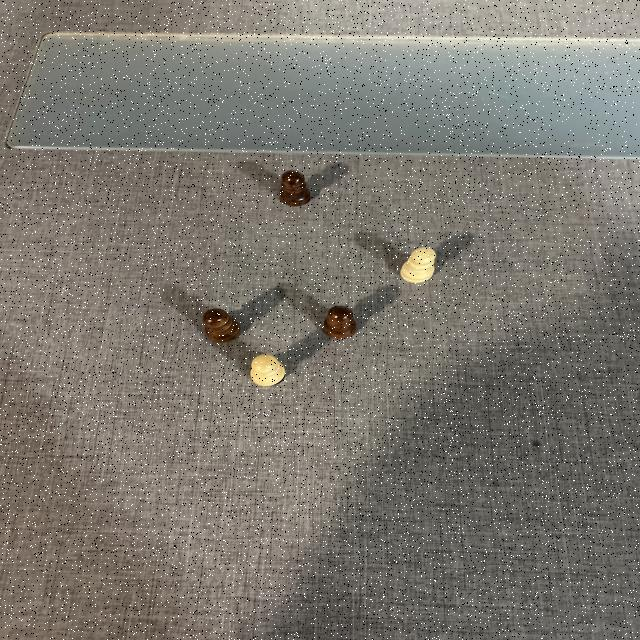Black-Pawn: (202, 308, 242, 346), (321, 306, 359, 340), (278, 168, 312, 206)
White-Pawn: (400, 246, 440, 284), (248, 353, 286, 387)
